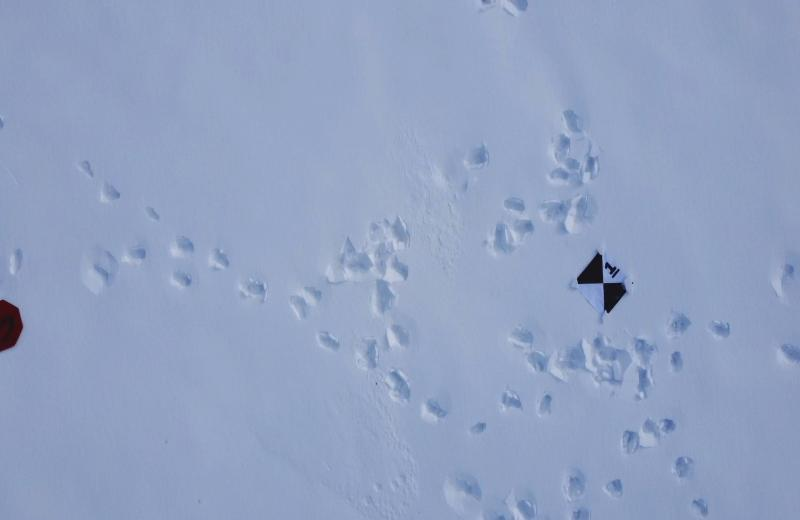Octagon: (0, 294, 25, 355)
